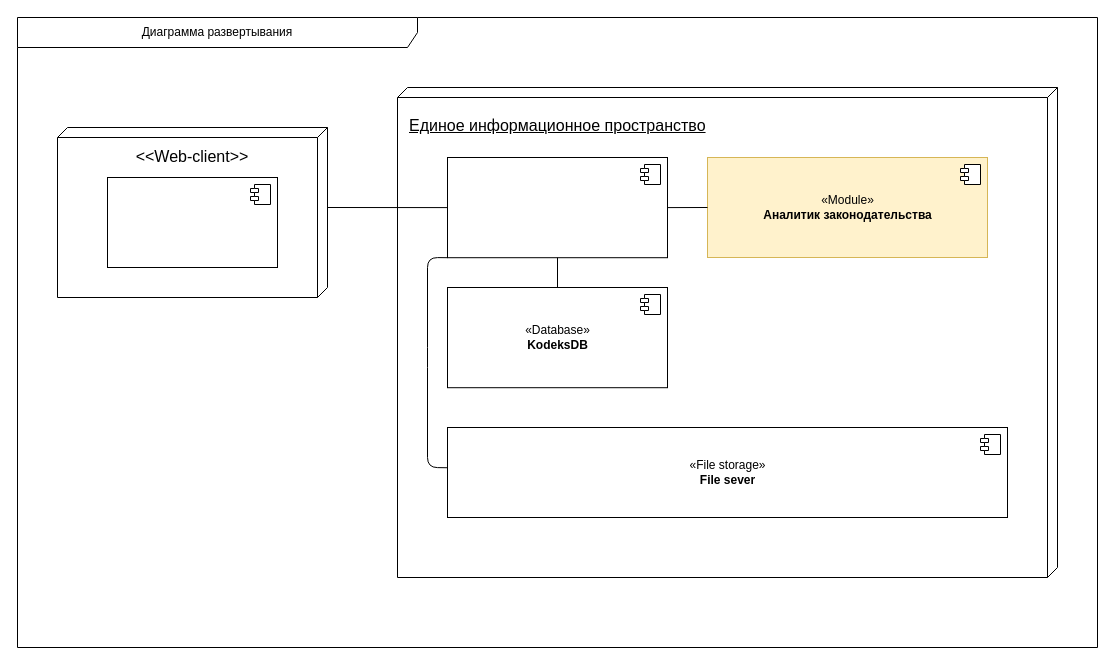
This 1115x665 diagram has some shape labels left out. Each missing label, with the centre of its shape:
"«UI» React" goes at [192,222].
"«WebApp» kScript" goes at [557,207].
